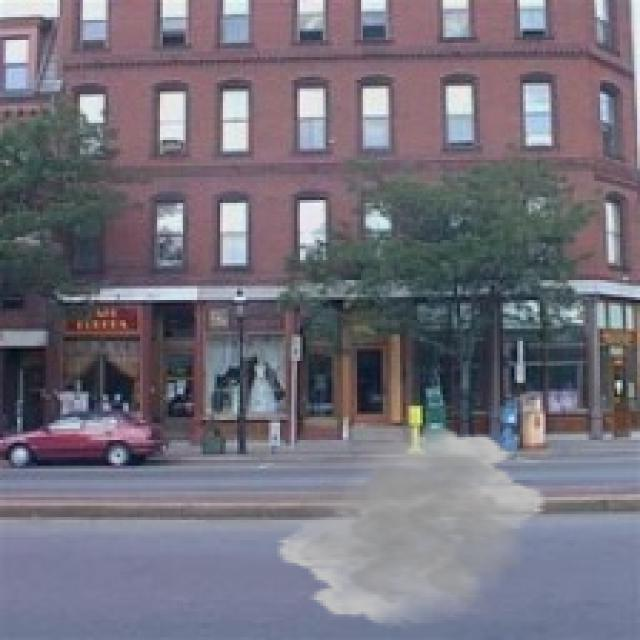smoke: (274, 423, 549, 628)
